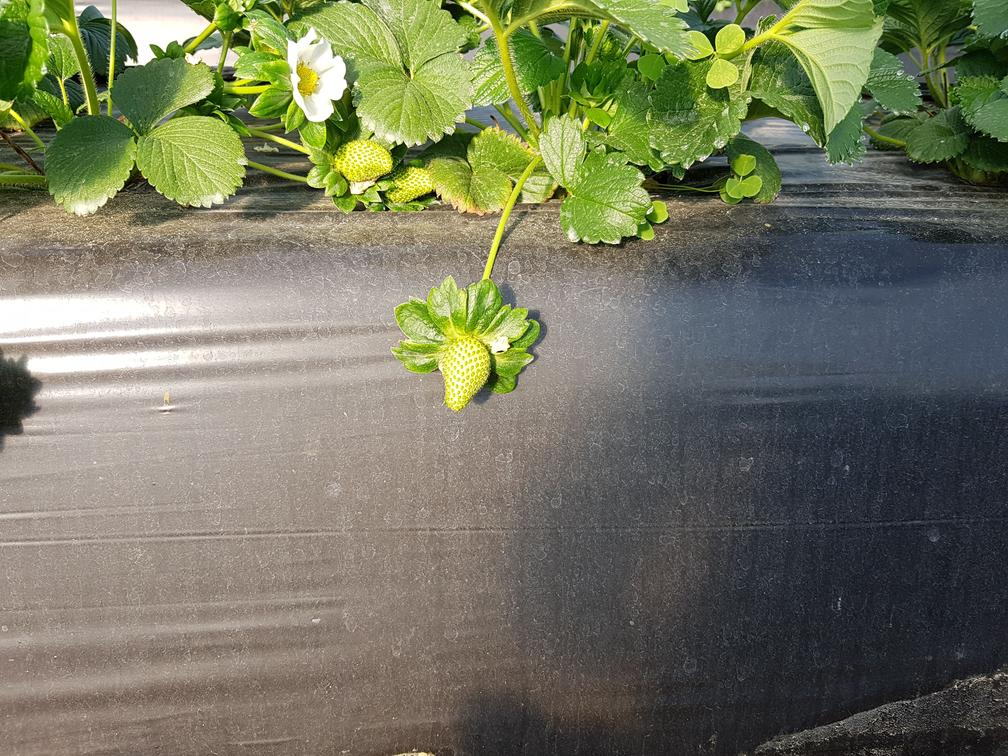Unripe: (436, 339, 498, 416), (338, 135, 396, 184)
